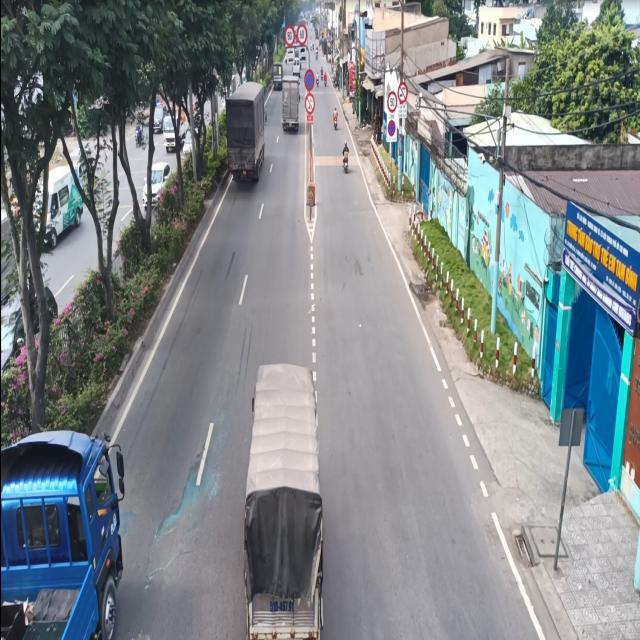motor: (339, 139, 351, 177)
truck: (241, 349, 330, 640), (221, 78, 267, 180), (278, 69, 303, 140)
